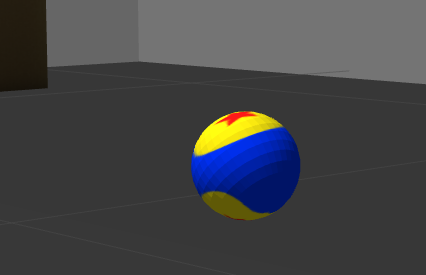toy story ball: (191, 111, 301, 220)
